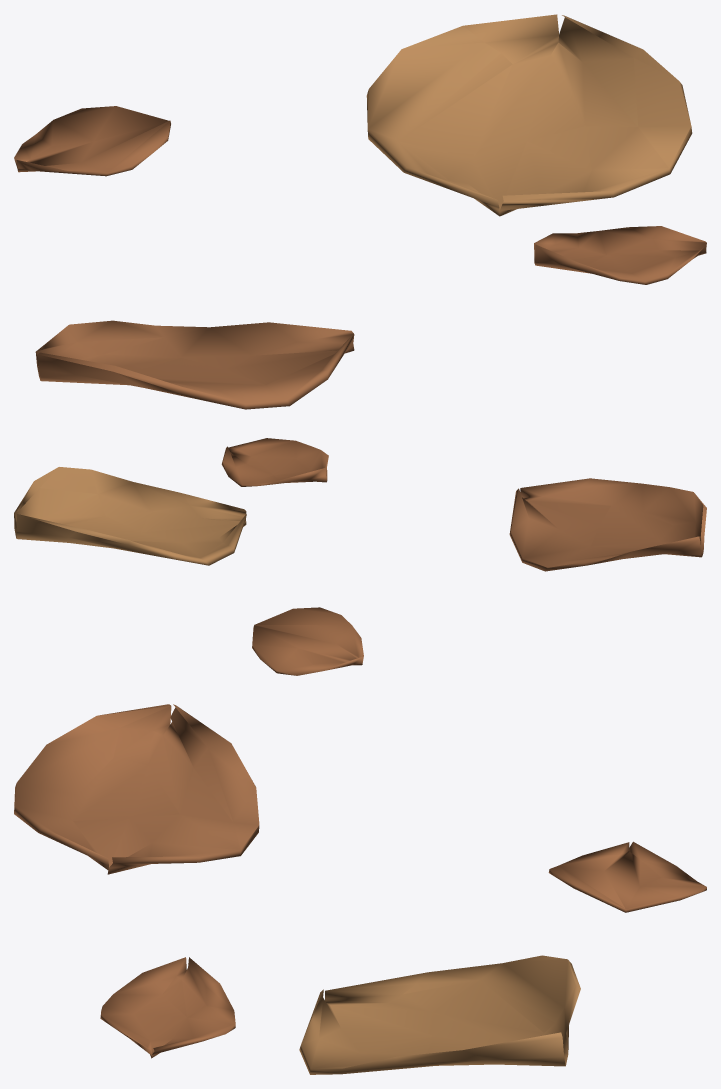
The model's file is canopy_gc_leaf_litter_a_lod1.glb.
3 views of the same model, one above another, from view 1: azimuth 30°, elevation 25°; view 2: azimuth 150°, elevation 25°; view 3: azimuth 270°, elevation 25° (orthographic). The views are drawn at different scales.
Visible parts, largest first — view 1: canopy_gc_leaf_litter_a.001; view 2: canopy_gc_leaf_litter_a.001; view 3: canopy_gc_leaf_litter_a.001.
Boxes of the visible parts, x1,y1,x2,y2 form: canopy_gc_leaf_litter_a.001: (14, 14, 706, 409); canopy_gc_leaf_litter_a.001: (14, 438, 706, 675); canopy_gc_leaf_litter_a.001: (14, 704, 706, 1074).
Bounding box in the file's own units: 4.68 × 0.4255 × 3.88.
